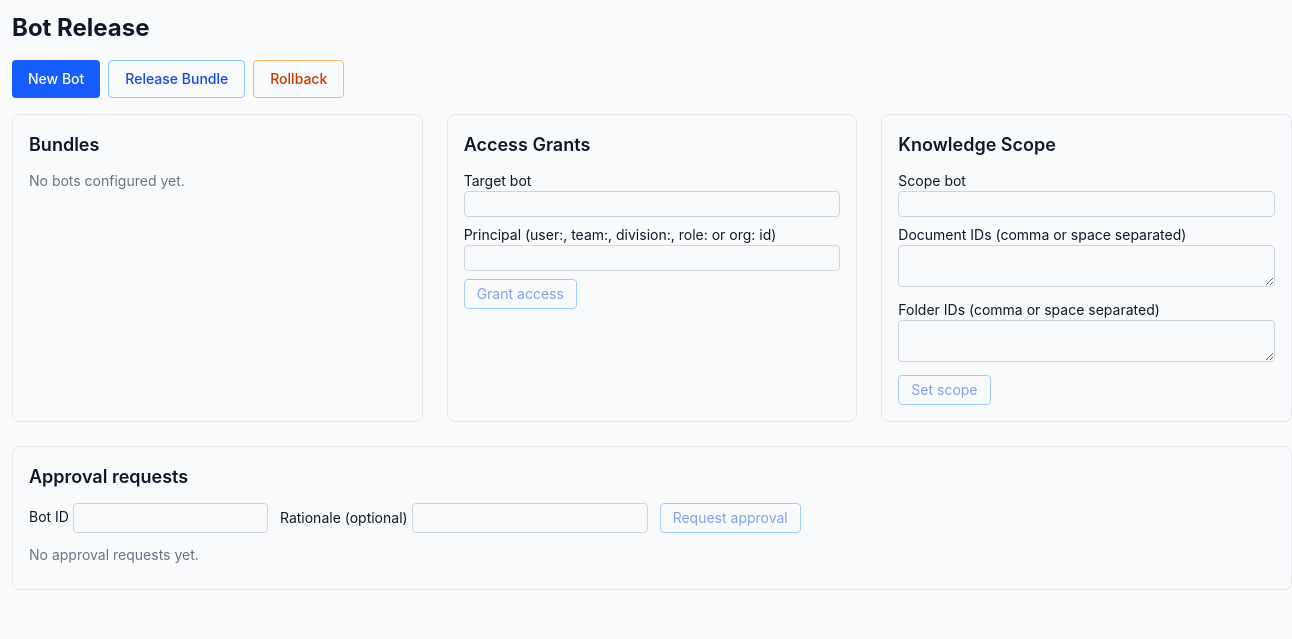
Test: BotReleaseScreen › shows a generic error without server text when the request fails
This screenshot has width=1292, height=639.
Expected: the text "No approval requests yet." is shown, [29,546,199,563]
Type "3f2c8a52-1b7e-4c1d-9a55-0d2f6a9b7c11" into the field labelled "Bot ID".
click(170, 518); type("3f2c8a52-1b7e-4c1d-9a55-0d2f6a9b7c11")  # box [73,503,268,533]
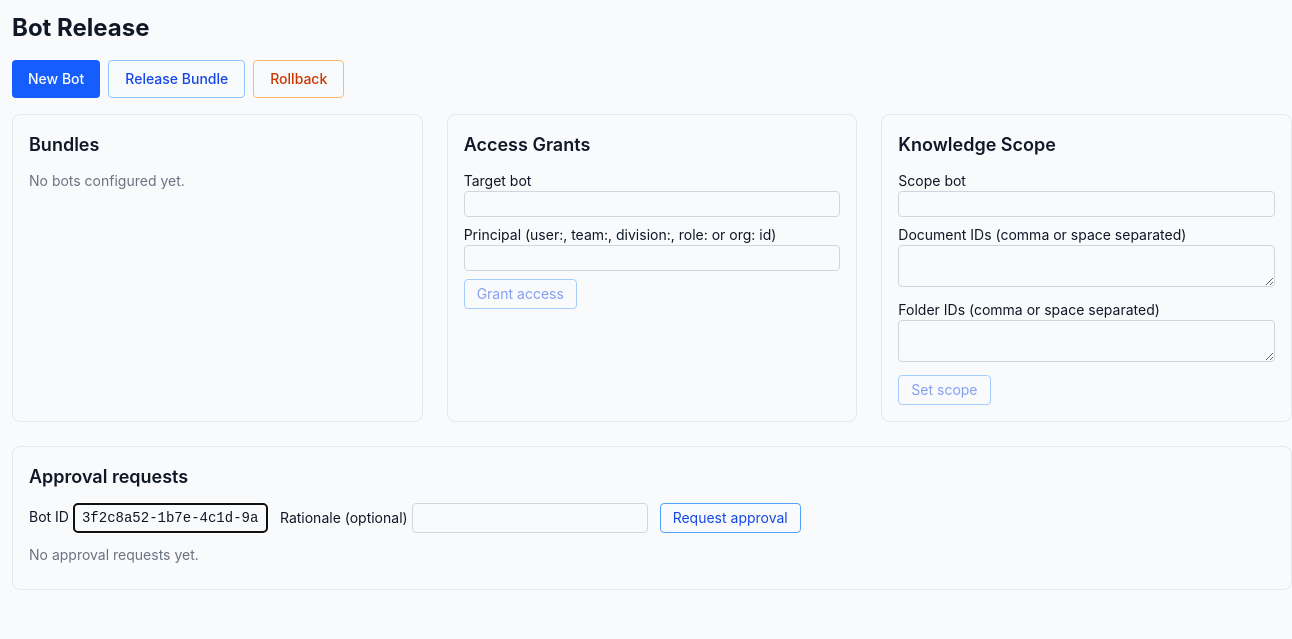
Click the button "Request approval".
click(730, 518)  # box [660,503,801,533]
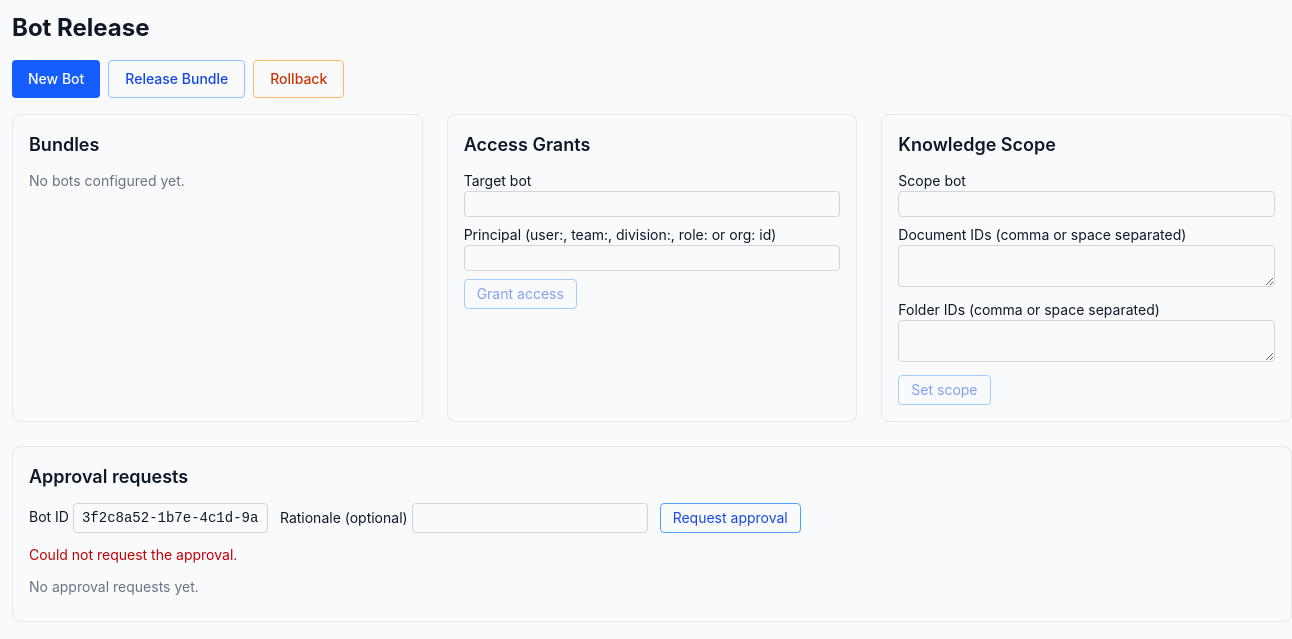
Expected: the text "Could not request the approval." is shown, [29,546,237,563]
